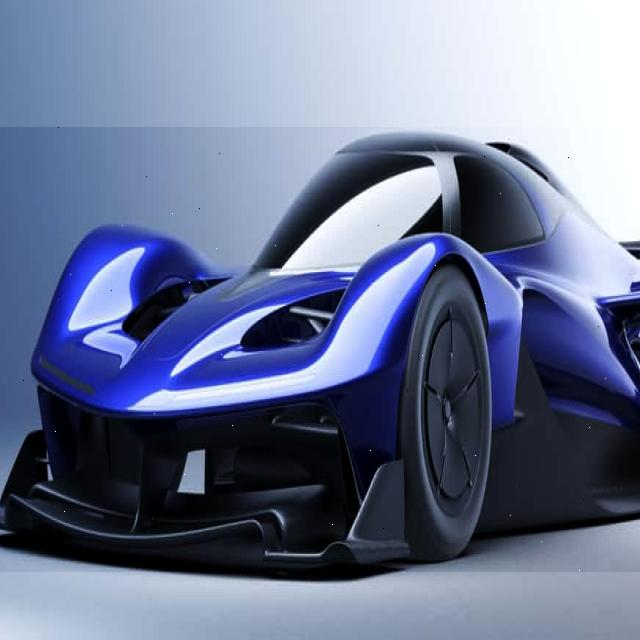car: (0, 127, 640, 572)
